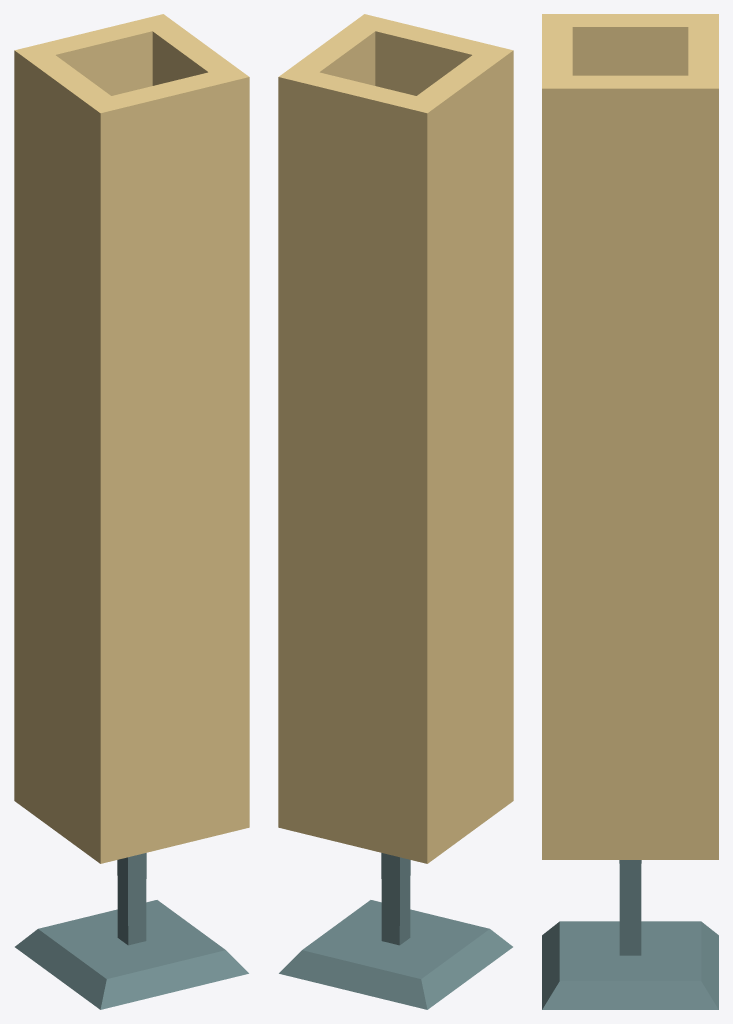
The model's file is Floor_Lamp.glb.
3 renders of one model, left to right at view 1: azimuth 30°, elevation 25°; view 2: azimuth 150°, elevation 25°; view 3: azimuth 270°, elevation 25°, orthographic. The views are drawn at different scales.
Parts seen in each view (by area): view 1: lampSquareFloor(Clone); view 2: lampSquareFloor(Clone); view 3: lampSquareFloor(Clone).
Part boxes in pixels (left/top/right/bottom): lampSquareFloor(Clone): left=14, top=14, right=249, bottom=1009; lampSquareFloor(Clone): left=278, top=14, right=513, bottom=1009; lampSquareFloor(Clone): left=542, top=14, right=718, bottom=1009.
Size of the model in its own units: 0.24 by 1.38 by 0.24.
